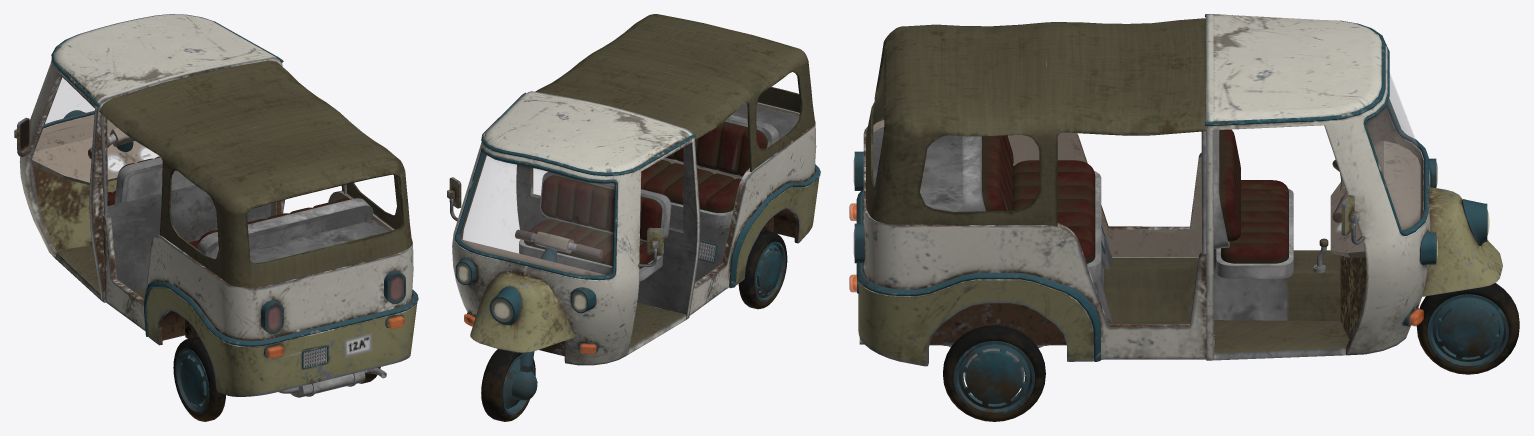
Rendered from th_tuktuk.glb.
3 views of the same model, side by side, from view 1: azimuth 30°, elevation 25°; view 2: azimuth 150°, elevation 25°; view 3: azimuth 270°, elevation 25° (orthographic). The views are drawn at different scales.
Parts seen in each view (by area): view 1: Corps; view 2: Corps; view 3: Corps.
Part boxes in pixels (x1,y1,x2,y2): Corps: (14, 14, 418, 421); Corps: (447, 14, 820, 421); Corps: (849, 14, 1519, 421).
Size of the model in its own units: 4.26 by 4.59 by 8.83.
Materials: 5 (5 with a texture image).
